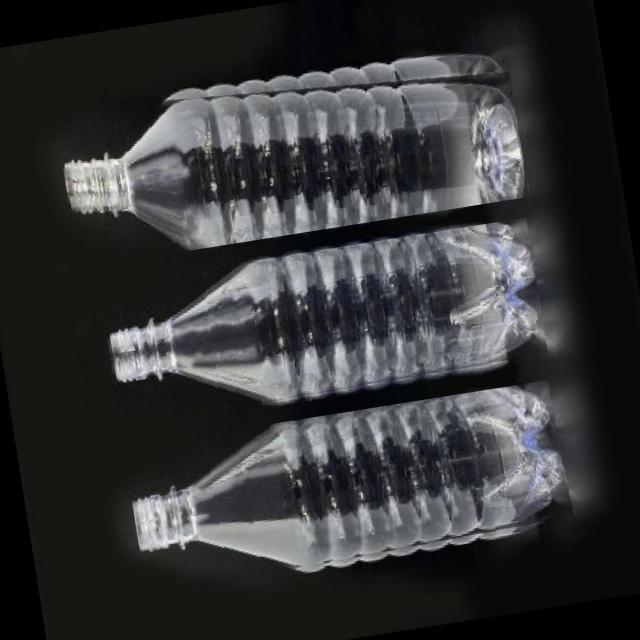plastic bottle: (56, 38, 529, 266), (124, 378, 576, 596), (100, 216, 549, 426)
